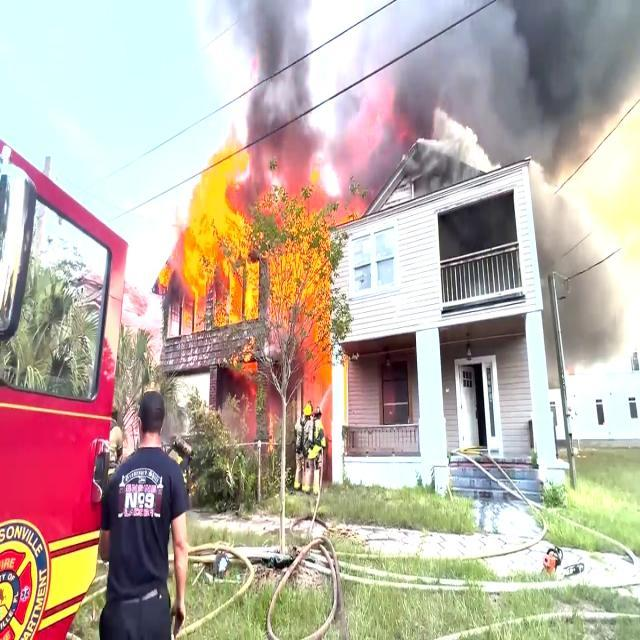Fire: (188, 154, 256, 307), (278, 239, 326, 416)
Smoke: (398, 6, 640, 113), (230, 5, 335, 144)
